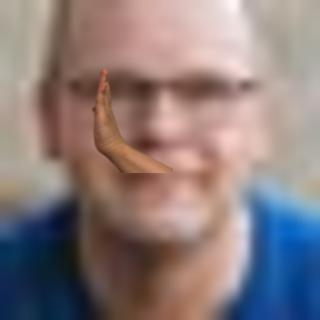RIGHT: (83, 66, 123, 161)
